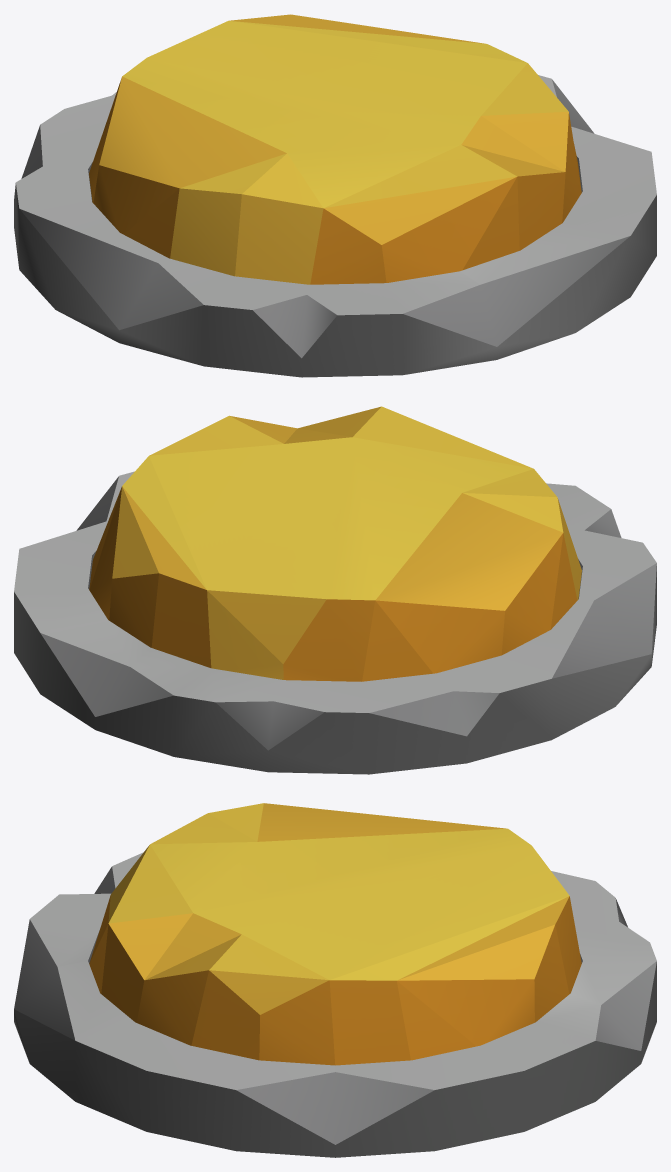
Rendered from rock_cylinder.fbx.
3 renders of one model, top to bottom at view 1: azimuth 30°, elevation 25°; view 2: azimuth 150°, elevation 25°; view 3: azimuth 270°, elevation 25°, orthographic.
Parts seen in each view (by area): view 1: cylinder, cylinder1; view 2: cylinder, cylinder1; view 3: cylinder, cylinder1.
Boxes of the visible parts, bbox=[...] form: cylinder: bbox=[89, 14, 581, 284]; cylinder1: bbox=[14, 75, 656, 377]; cylinder: bbox=[89, 406, 581, 681]; cylinder1: bbox=[14, 471, 656, 774]; cylinder: bbox=[89, 803, 581, 1065]; cylinder1: bbox=[14, 852, 656, 1157].
Size of the model in its own units: 23.97 by 5.66 by 23.97.
